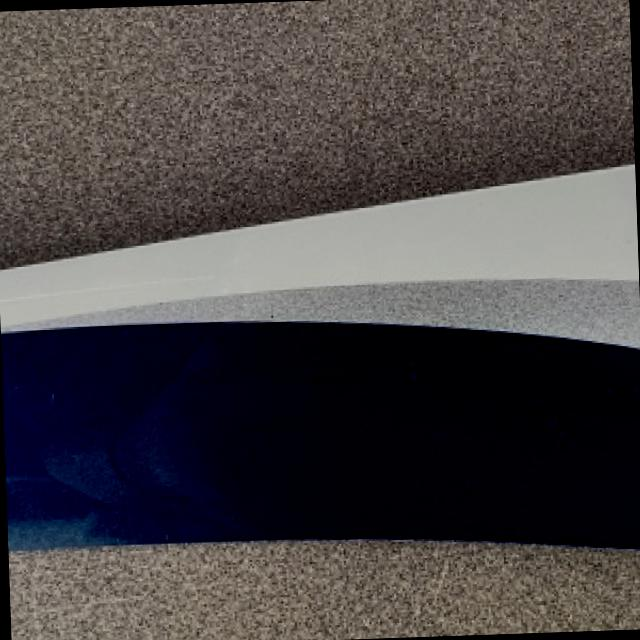healthy: (11, 539, 640, 640)
